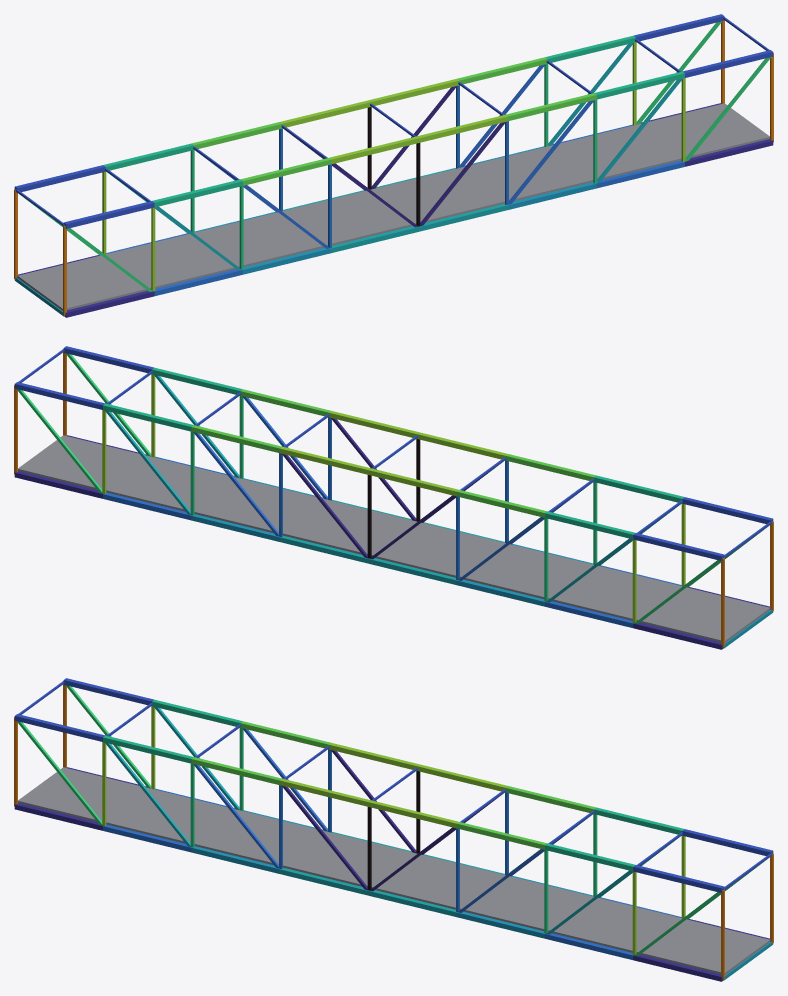
The model's file is 25_3_8_HEA160.glb.
3 renders of one model, top to bottom at view 1: azimuth 30°, elevation 25°; view 2: azimuth 150°, elevation 25°; view 3: azimuth 330°, elevation 25°, orthographic.
Bounding box in the file's own units: 25.09 × 3.16 × 3.16.
